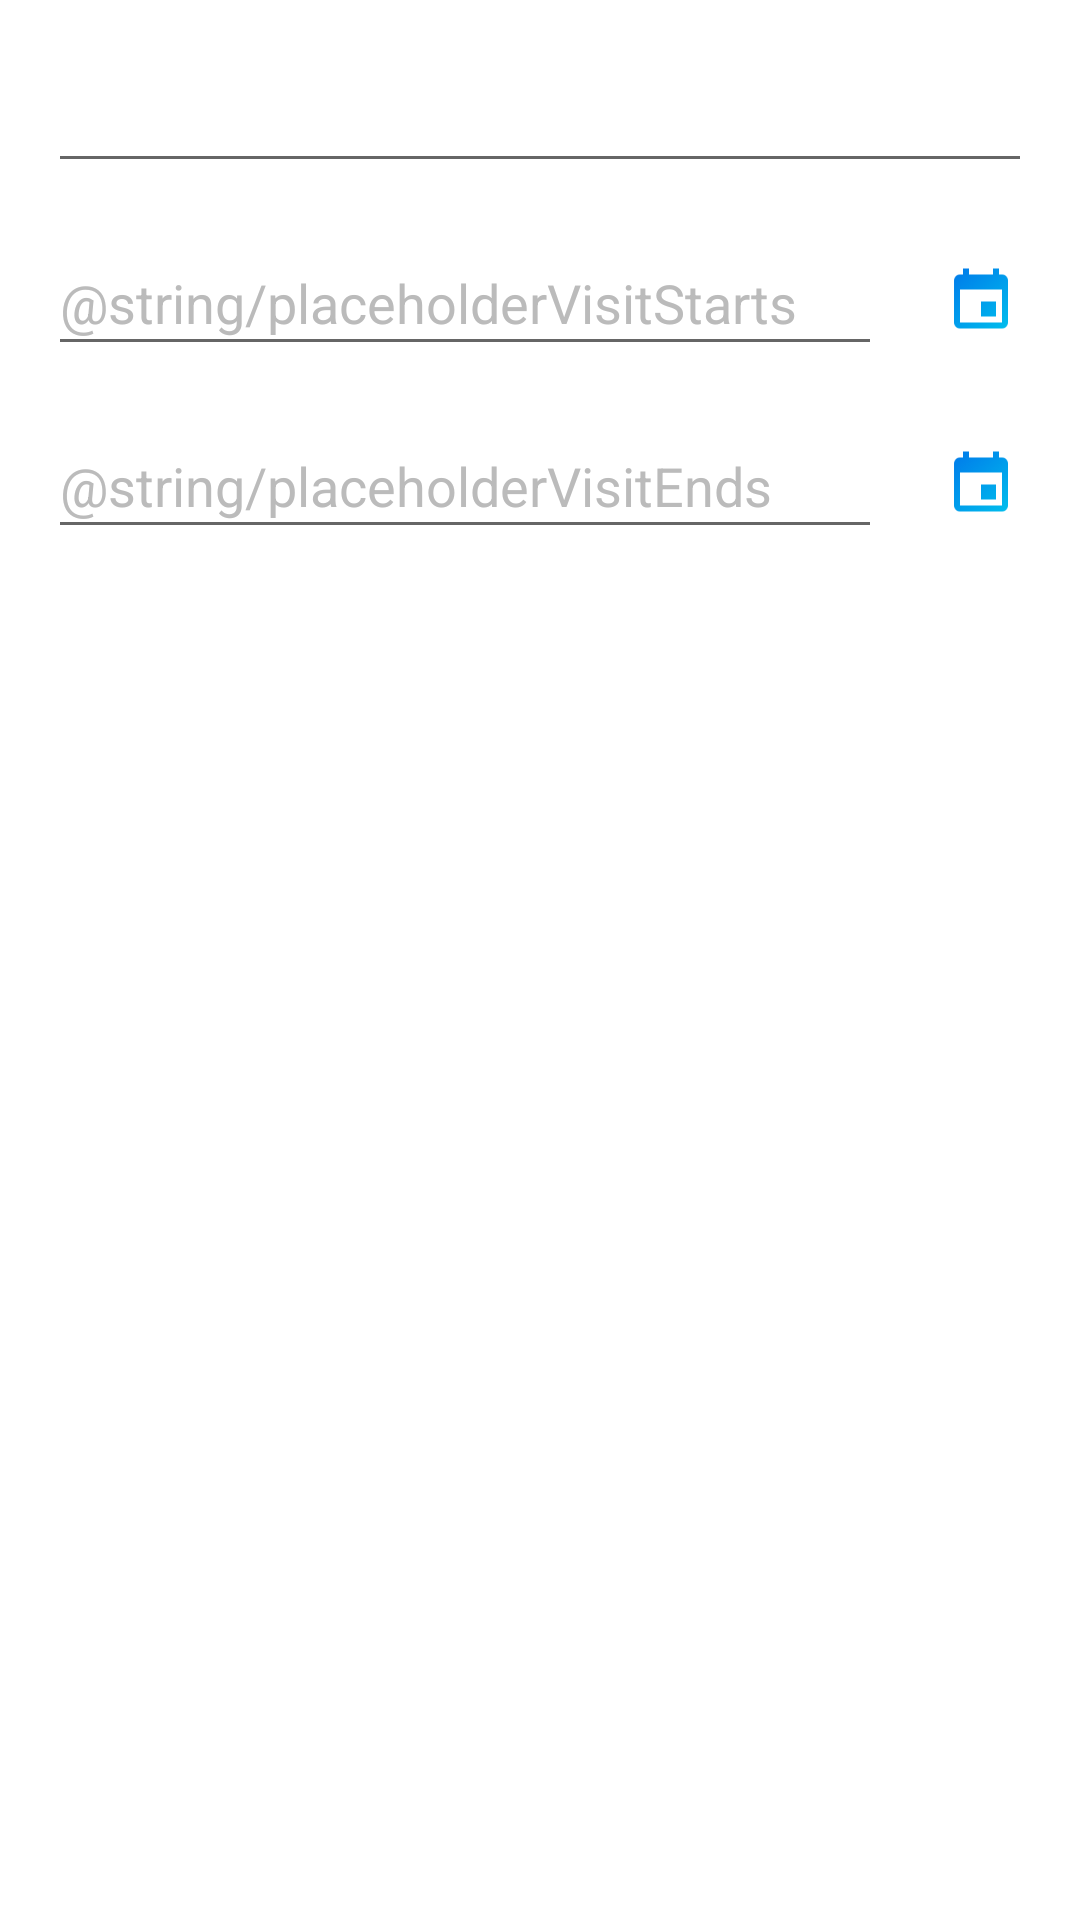

Locate icon controls on the screen. Image size 1080×1920, boxes as (x1, y1, x2, y2).
calendar: (954, 268, 1008, 329), (954, 451, 1008, 512)
